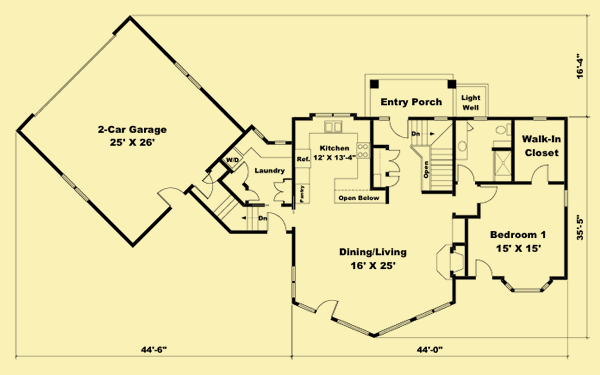bathroom with shower space, small and large sink and walk in closet: (456, 118, 514, 185)
entry porch is near the stairs: (367, 73, 458, 200)
kitchen has a twin sink and cooking range: (290, 111, 374, 209)
laundry is with washer and dryer: (214, 123, 292, 208)
this is a large garage with two car space: (22, 16, 213, 238)
